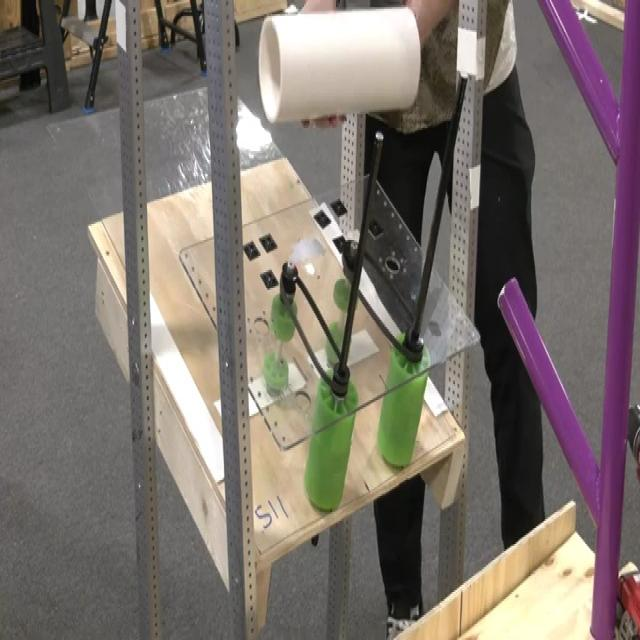Coral: (257, 5, 421, 124)
